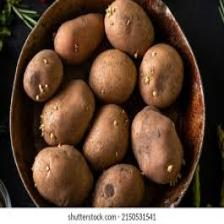Bud: (38, 109, 61, 143), (100, 3, 124, 30), (30, 81, 54, 101), (162, 155, 177, 179), (148, 86, 164, 104), (110, 113, 122, 135), (70, 36, 82, 56), (122, 15, 136, 31), (141, 72, 153, 88), (42, 161, 54, 176), (39, 54, 50, 70), (32, 82, 33, 83)
Diseased-fungal potato: (83, 166, 147, 209)
Sprouted potato: (129, 106, 186, 190), (27, 142, 92, 203), (38, 80, 97, 146), (83, 100, 133, 166), (137, 41, 186, 107), (82, 46, 139, 102), (96, 0, 155, 54), (19, 44, 66, 104), (48, 14, 102, 61)
